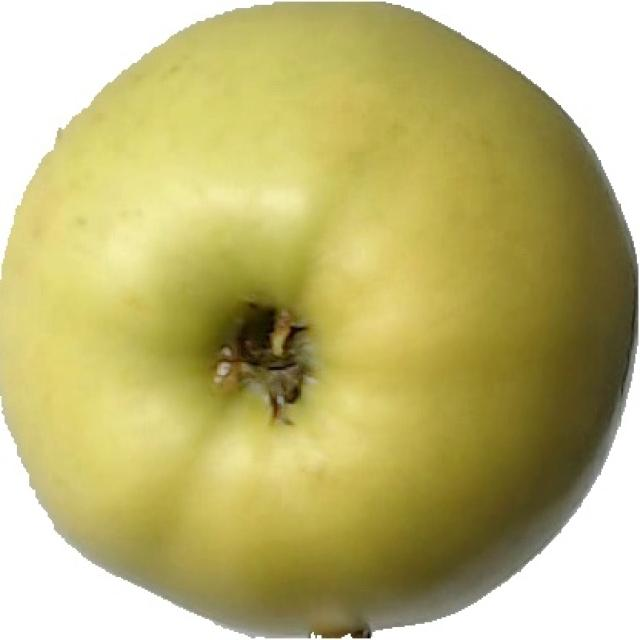Golden Elma: (10, 9, 627, 640)
